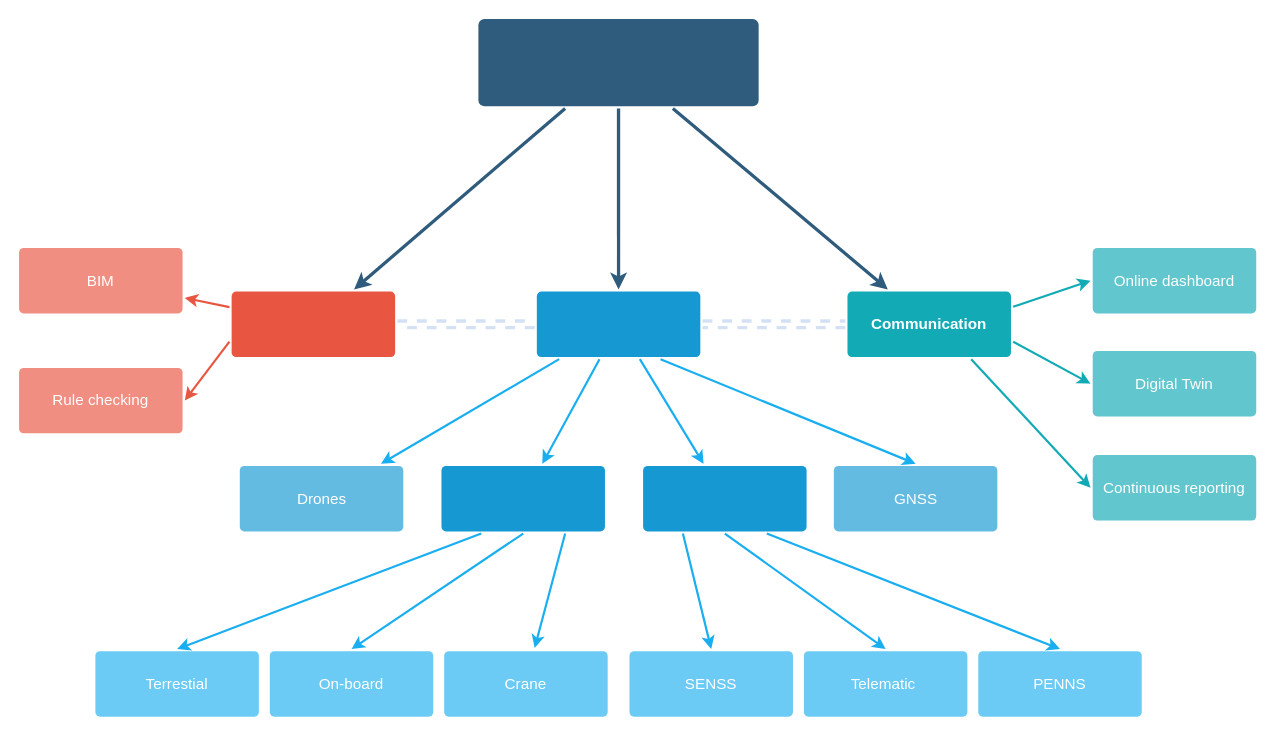
The diagram is 1274 pixels wide and 735 high, and some of its shapes have lost their labels. Each missing label, with the box of its shape:
Cameras: (441, 465, 604, 531)
Monitoring: (536, 291, 700, 356)
Particle/Gas sensors: (643, 465, 806, 531)
Planning: (231, 291, 395, 356)
Worksite Safety: (478, 19, 758, 106)
